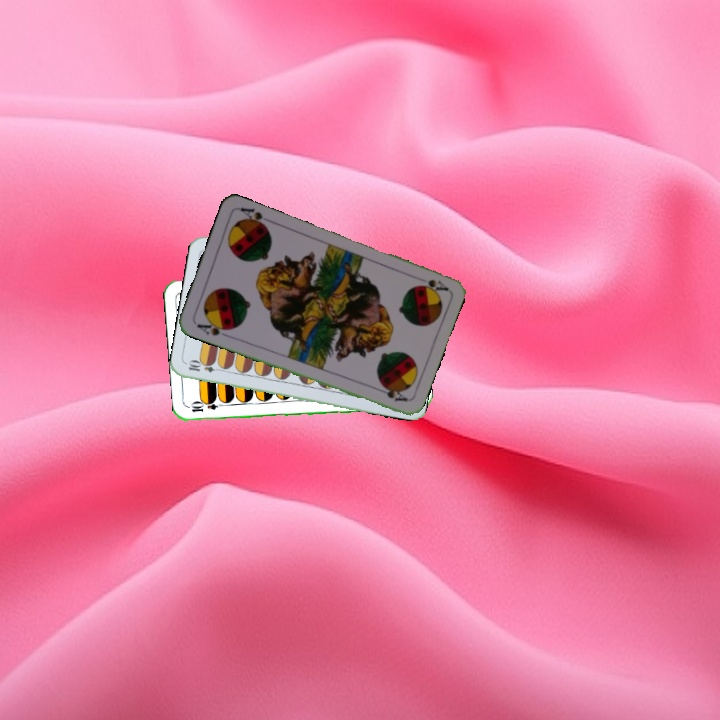E10: (185, 358, 225, 375), (187, 400, 228, 415)
SA: (193, 317, 233, 340), (414, 275, 450, 295)
